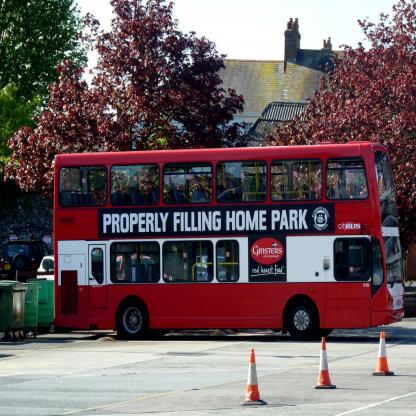Car: (117, 256, 169, 280)
